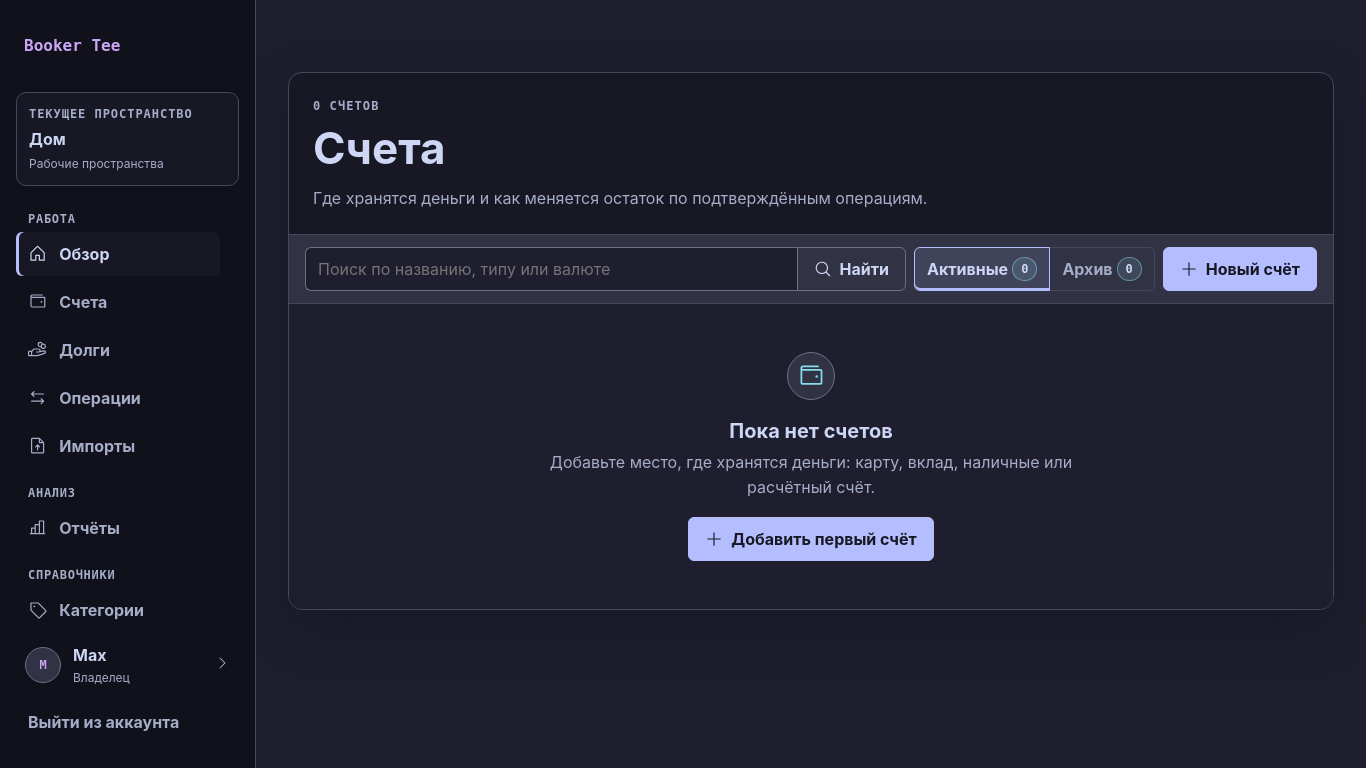
AccountListPage › guides an editor from an empty directory into account creation
The width and height of the screenshot is (1366, 768).
Click the button "Добавить первый счёт".
click(811, 539)  # box [688,517,934,561]
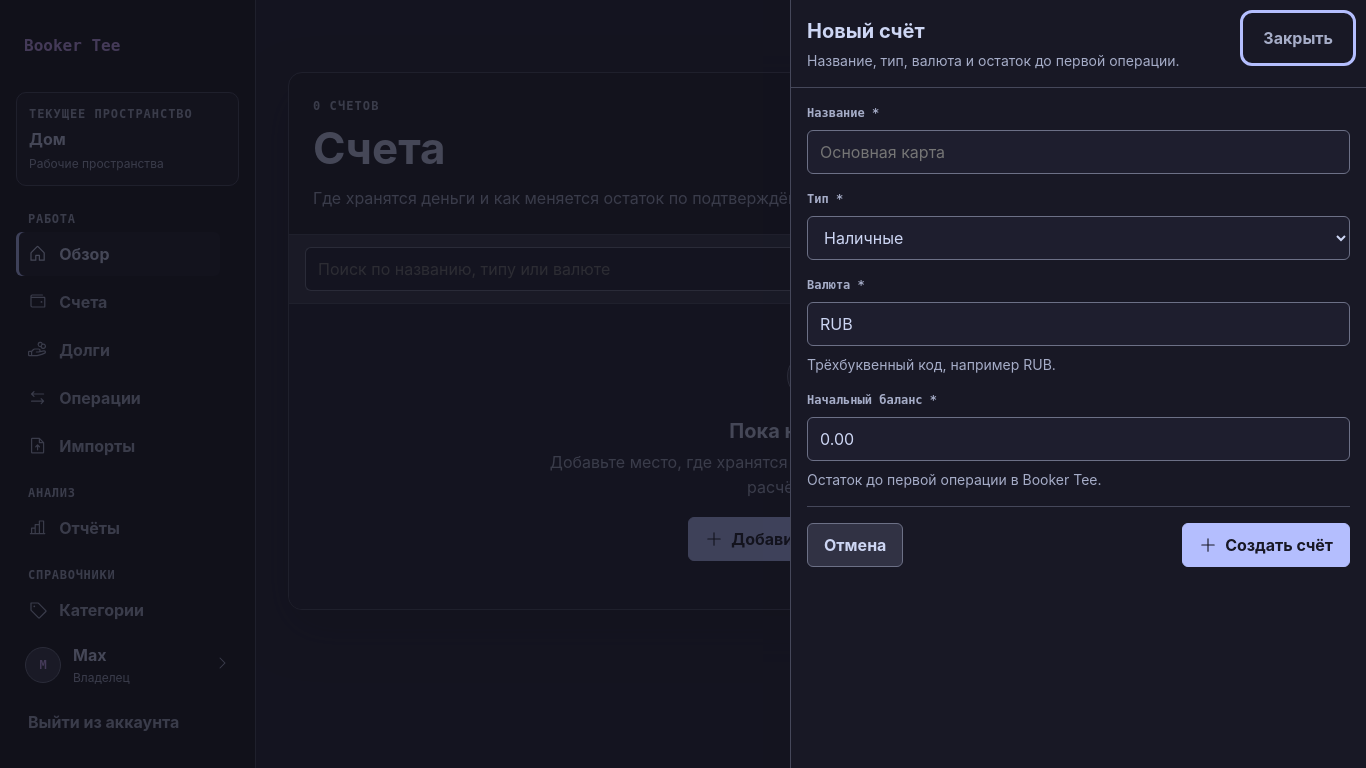
Check: the dialog "Новый счёт" is shown, box [790,0,1365,767]
